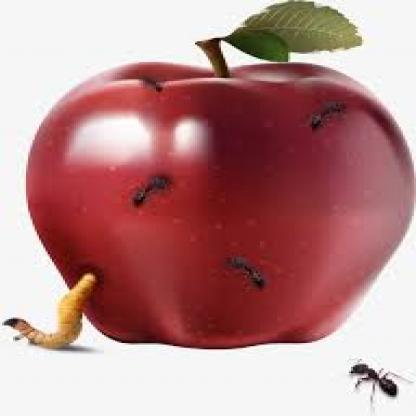damaged_apple: (24, 46, 414, 345)
